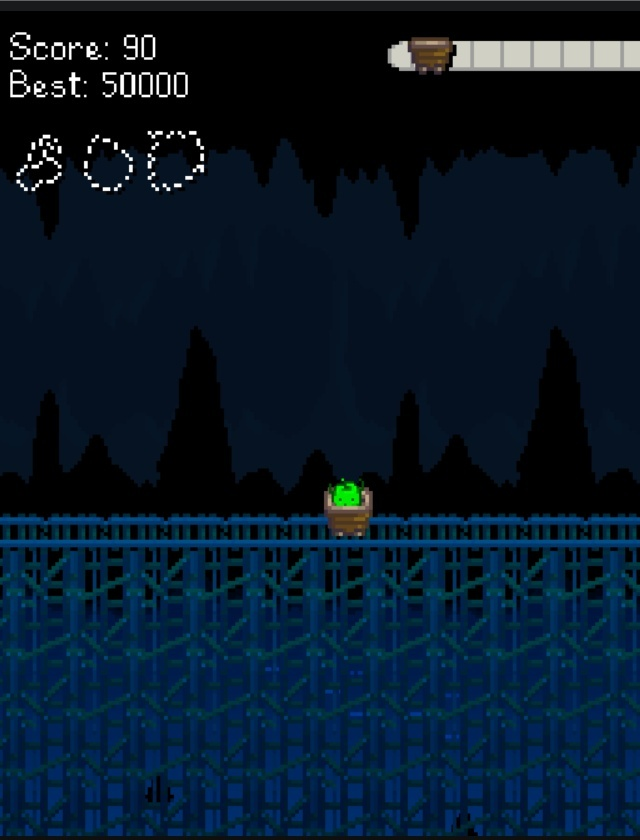minecart: (325, 489, 371, 535)
tracks: (0, 512, 310, 552), (381, 512, 640, 552)
